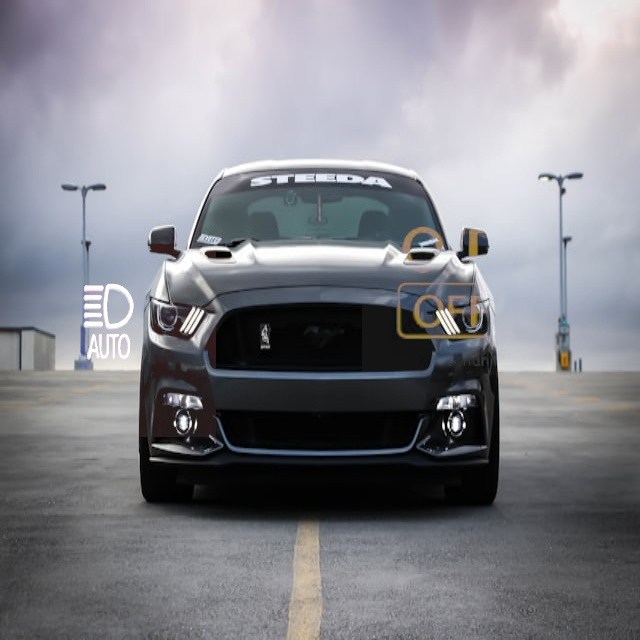symbol: (0, 221, 216, 437), (362, 194, 543, 375)
